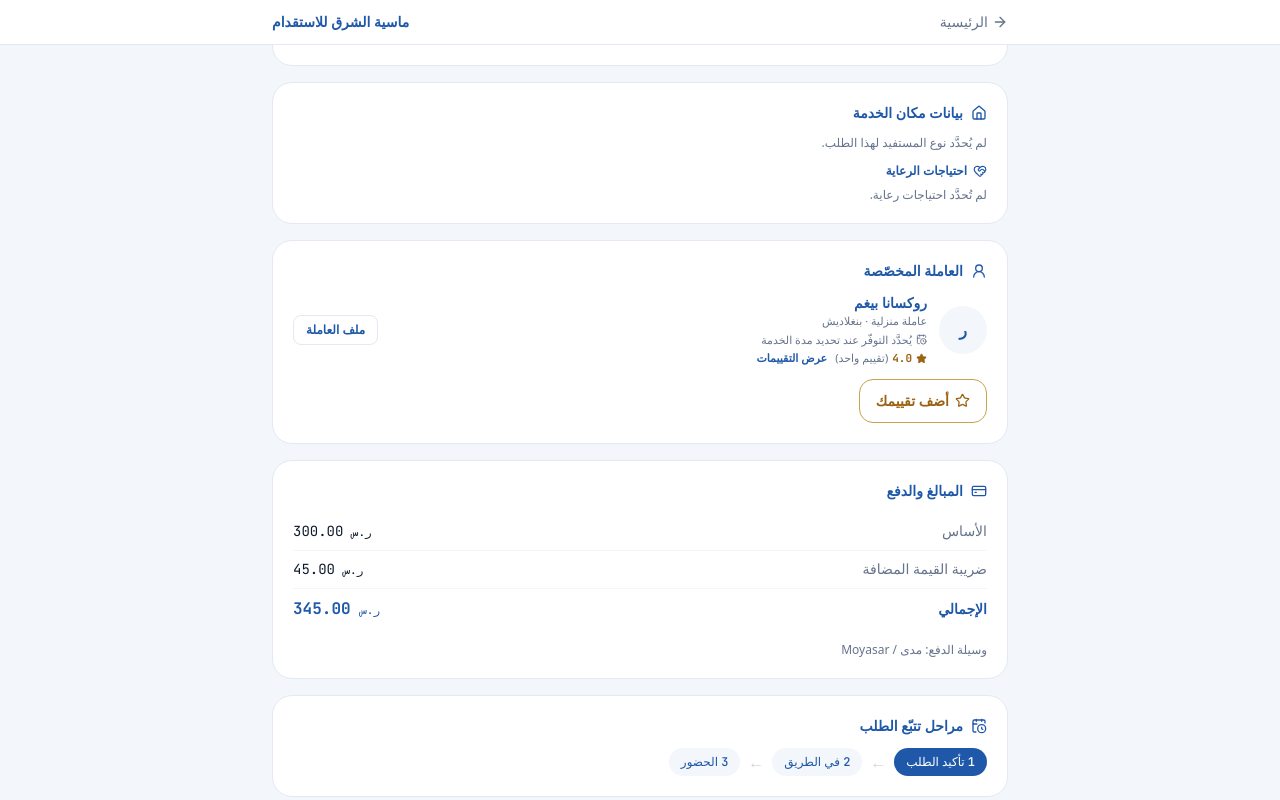
it: التقييم من ملف الطلب › رسالة التكرار تظهر في النموذج إذا قُيّم الطلب من مكان آخر أثناء فتحه
The width and height of the screenshot is (1280, 800).
(page scrolled)
Step 1. Click the button "أضف تقييمك" → click(923, 400), box [859,378,987,422]
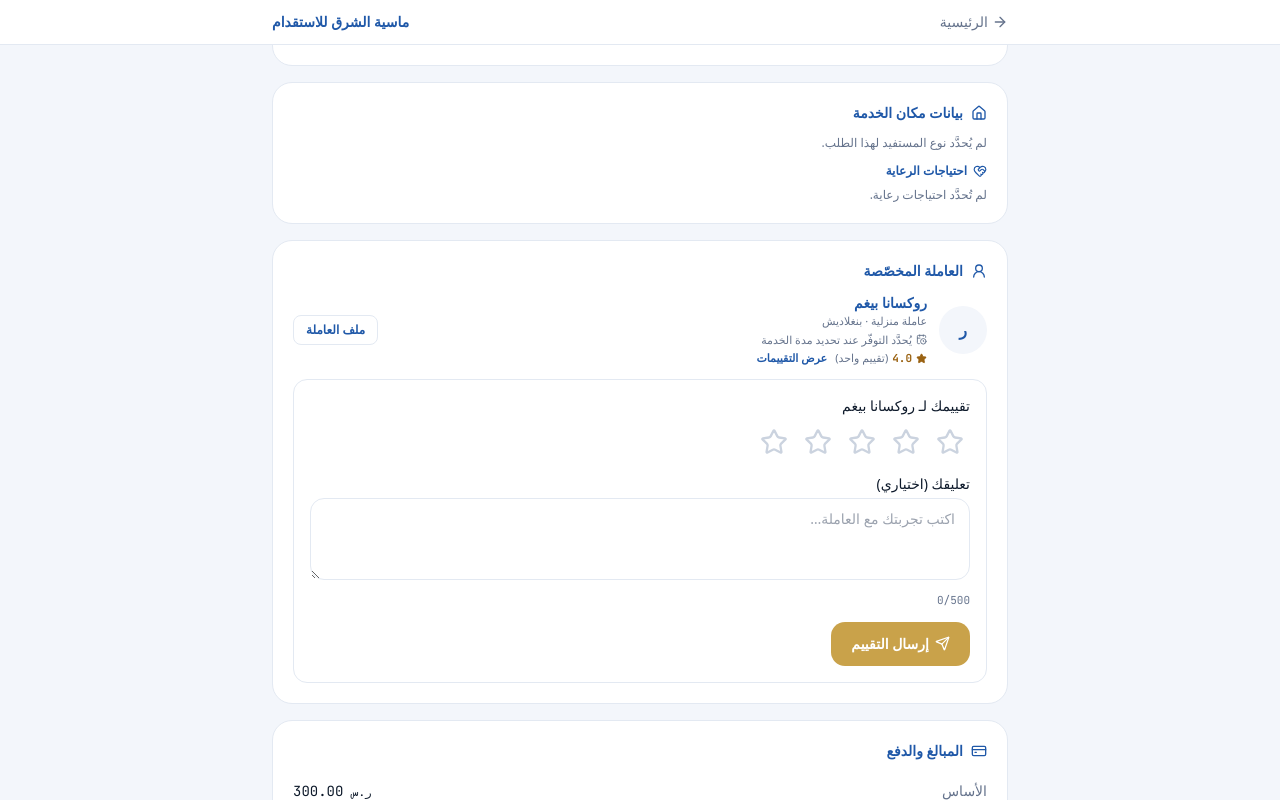
Step 2. Click the radio button named "3 نجوم" → click(862, 442), box [848,428,876,456]
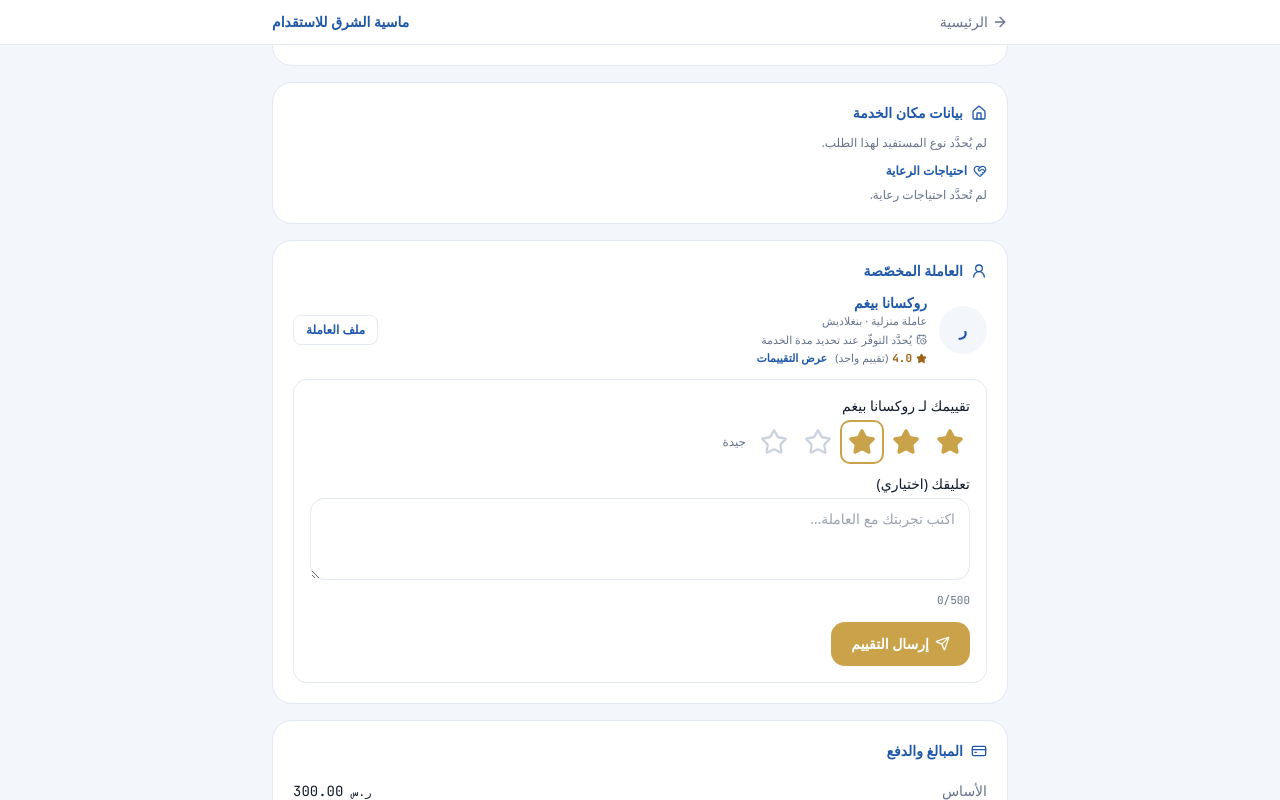
Step 3. Click the button "إرسال التقييم" → click(901, 644), box [831,622,970,666]
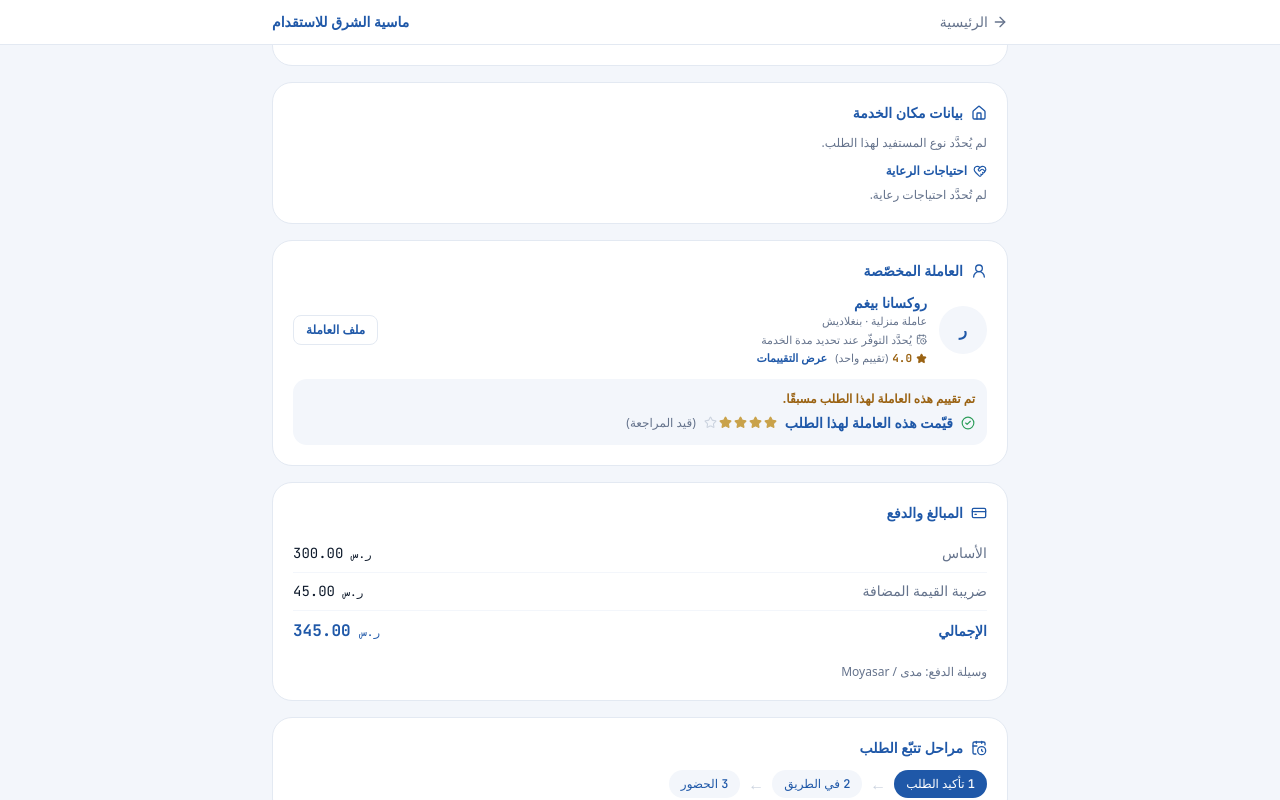
Check: the text "تم تقييم هذه العاملة لهذا الطلب مسبقًا." is shown, box [783,390,975,406]
